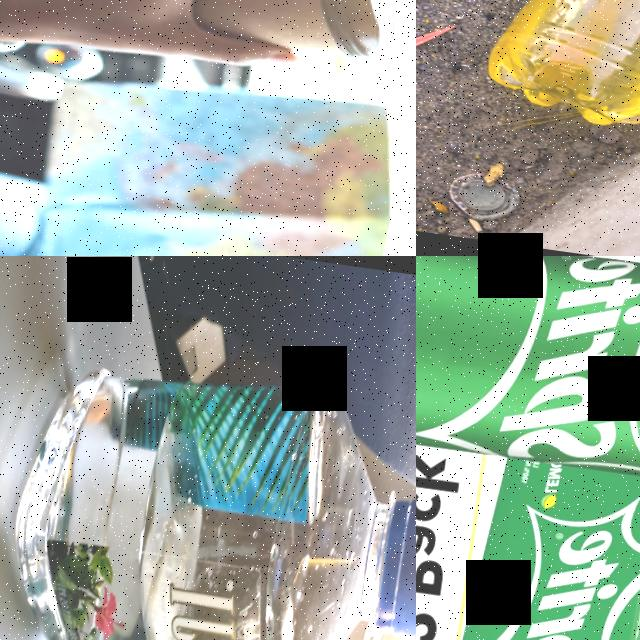bottle: (0, 329, 416, 640), (477, 0, 640, 149)
can: (416, 256, 640, 498)
cup: (172, 0, 416, 76)
